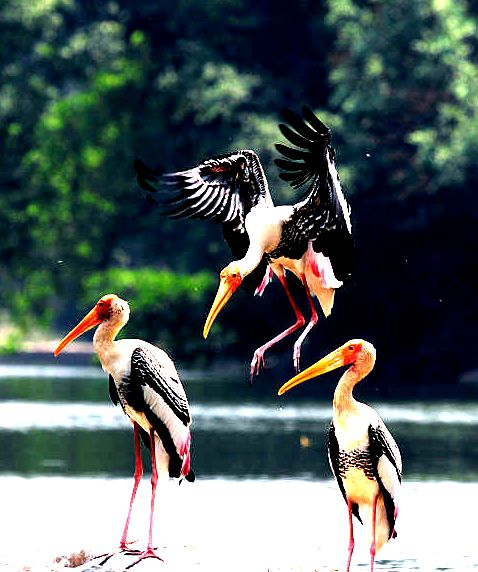Bird: (147, 116, 353, 382), (49, 292, 202, 570), (274, 336, 408, 572)
